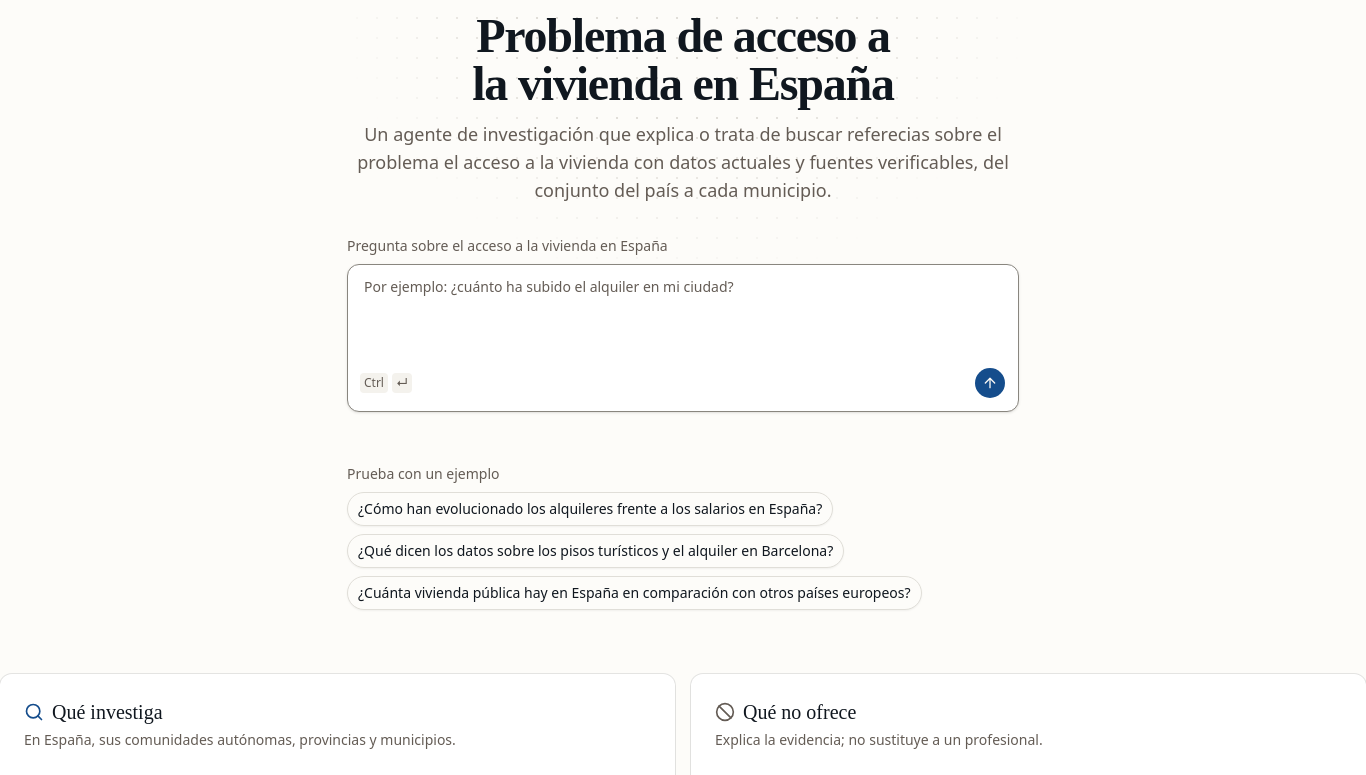
Test case: ResearchRequestForm › disables the busy button while sending, so a double click sends once
Type "Hola" into the text box labelled "Pregunta sobre el acceso a la vivienda en España" at (683, 313), box [348,265,1018,361]
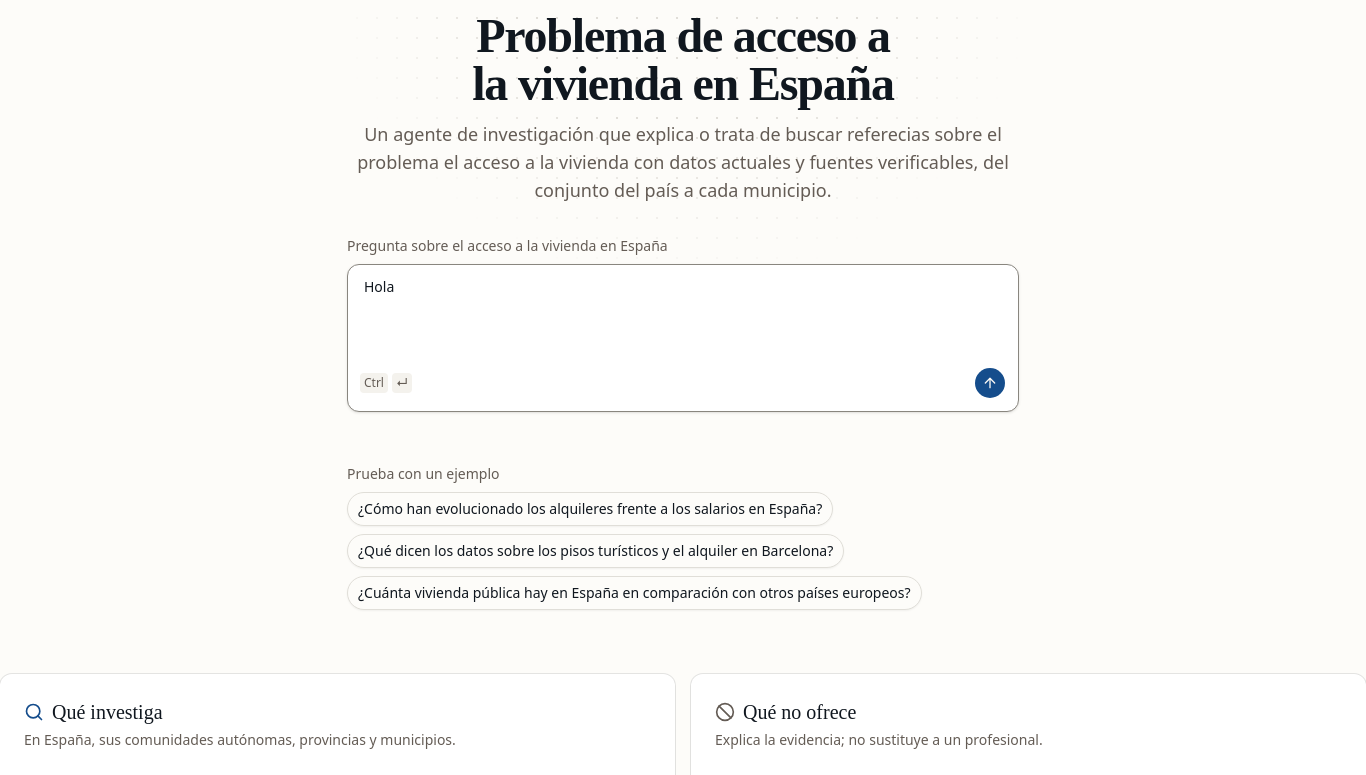
Submit the form, box [347,236,1019,440]
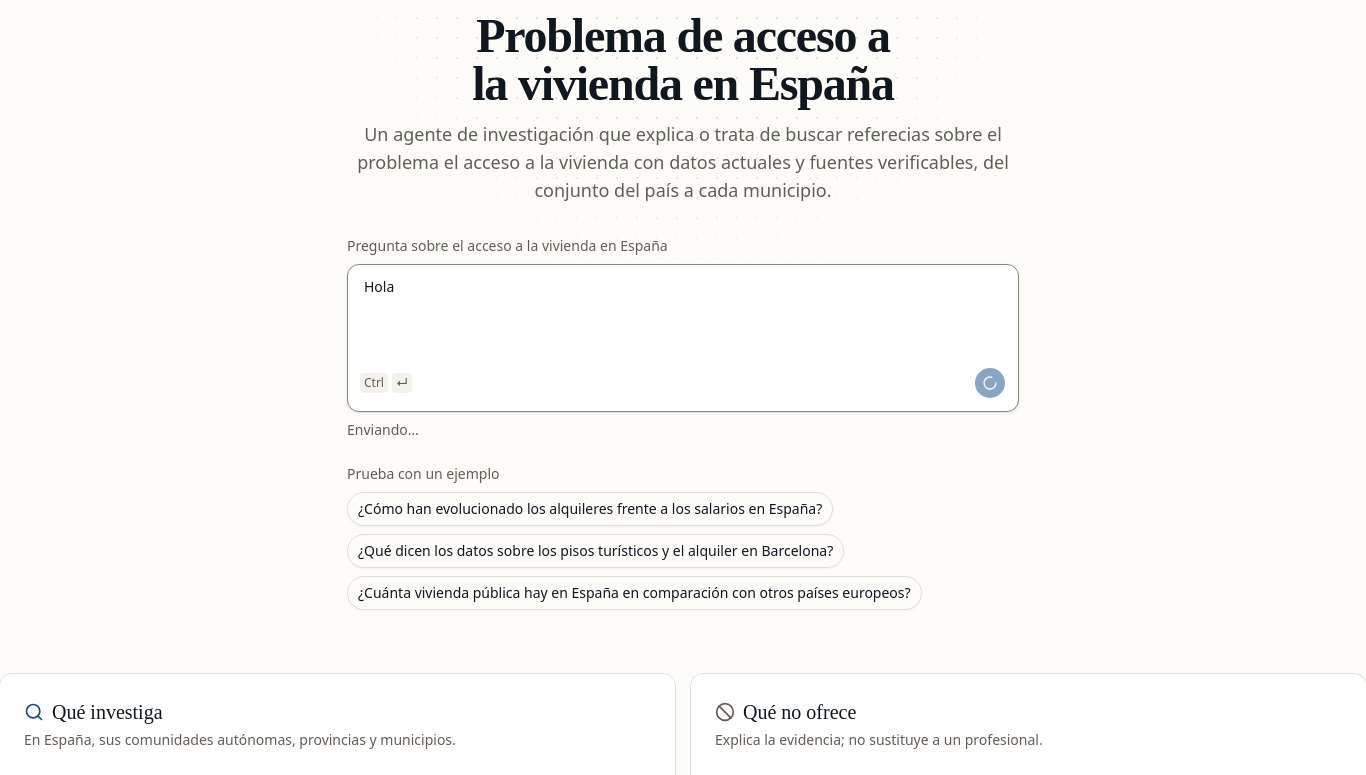
Check: the submit button is disabled, box [974,367,1006,399]
Submit the form, box [347,236,1019,440]
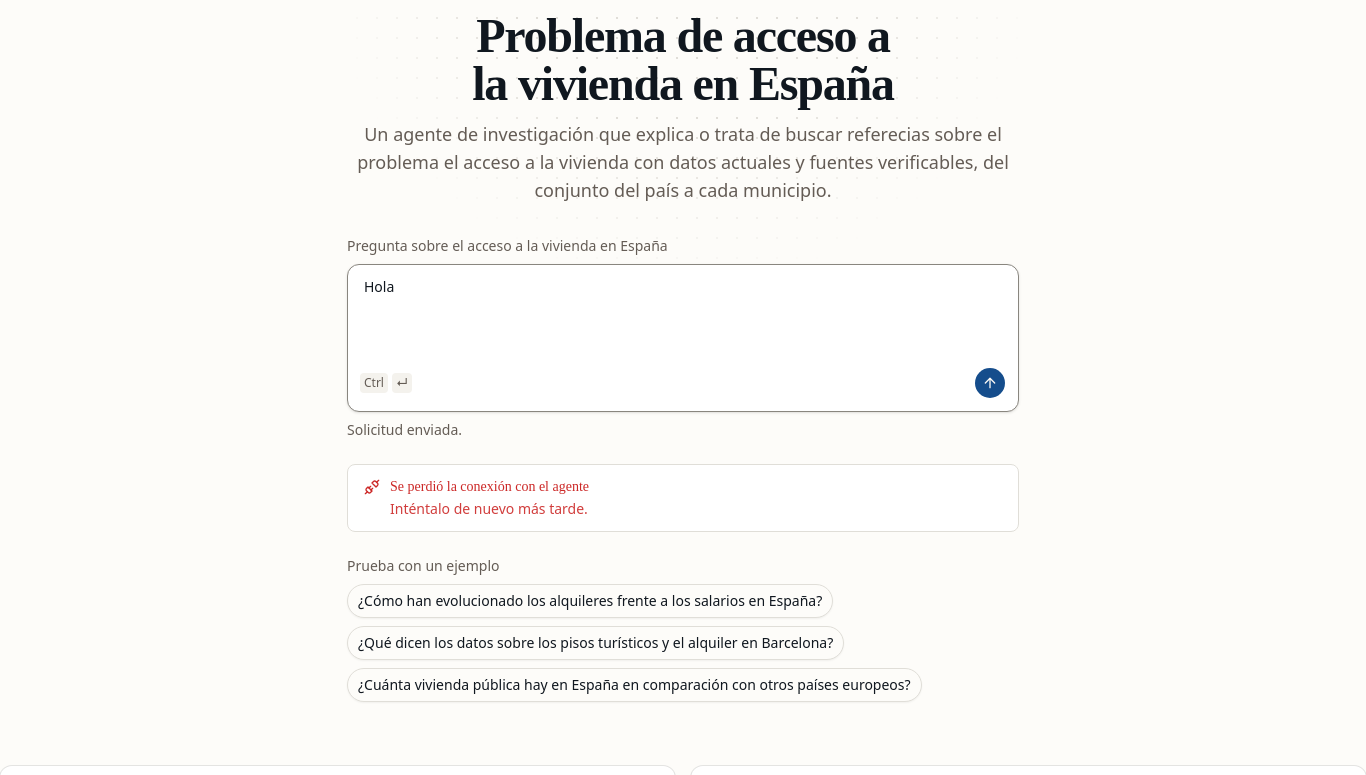
Check: the submit button is enabled, box [974,367,1006,399]
